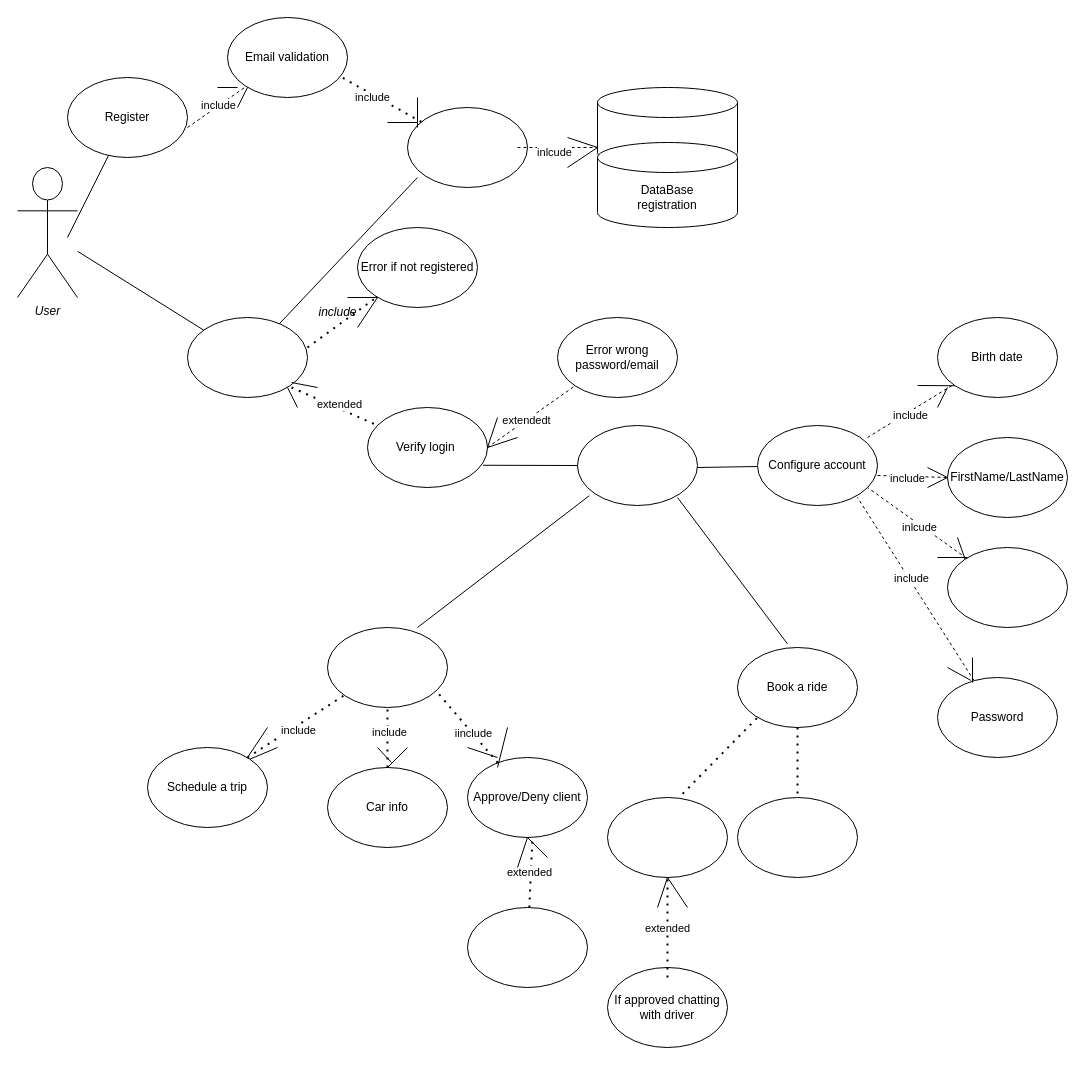
Some shapes in this 1085 by 1065 pixel diagram are drawn without their labels. The box of each missing label's shape, as (x1, y1, x2, y2) in pixels:
Approve/Deny driver: (606, 796, 728, 878)
Create a ride: (326, 626, 448, 708)
Entered account: (576, 424, 698, 506)
If approved chatting with client: (466, 906, 588, 988)
Login: (186, 316, 308, 398)
Make an account: (406, 106, 528, 188)
Search a car: (736, 796, 858, 878)
Username: (946, 546, 1068, 628)
